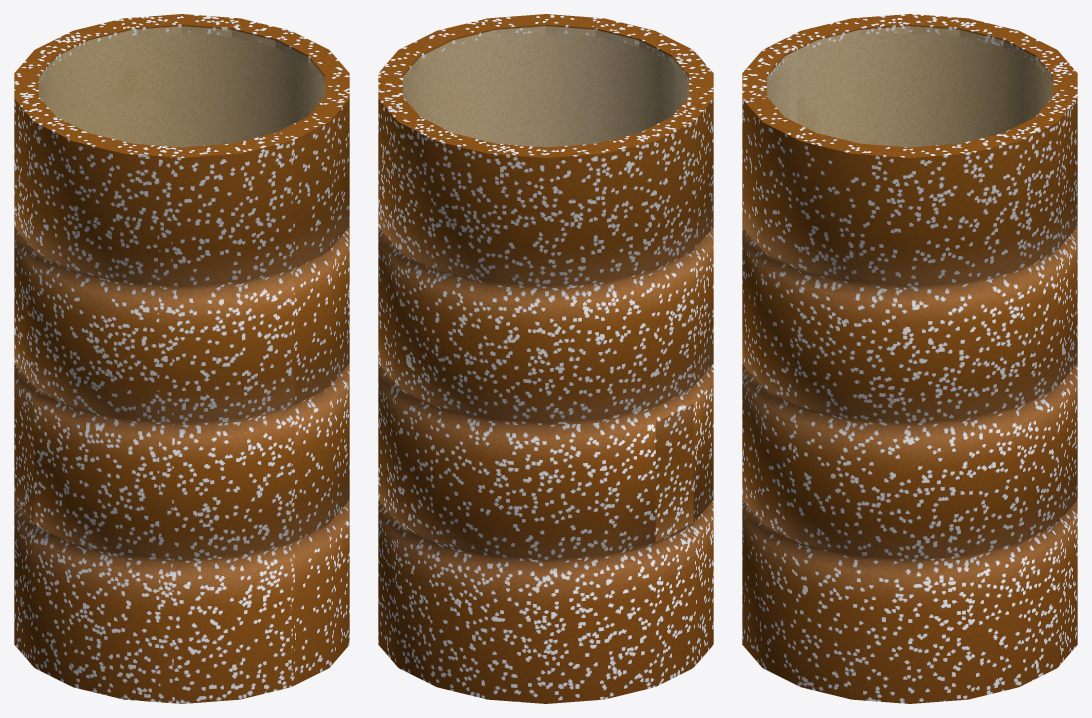
File: sim.FBX
The picture shows the model from 3 angles, left to right: view 1: azimuth 30°, elevation 25°; view 2: azimuth 150°, elevation 25°; view 3: azimuth 270°, elevation 25°; orthographic projection.
Parts seen in each view (by area): view 1: Cylinder001; view 2: Cylinder001; view 3: Cylinder001.
Part boxes in pixels (x1,y1,x2,y2): Cylinder001: (14,14,349,703); Cylinder001: (378,14,713,703); Cylinder001: (742,14,1077,703).
Size of the model in its own units: 28.28 by 50 by 27.85.
